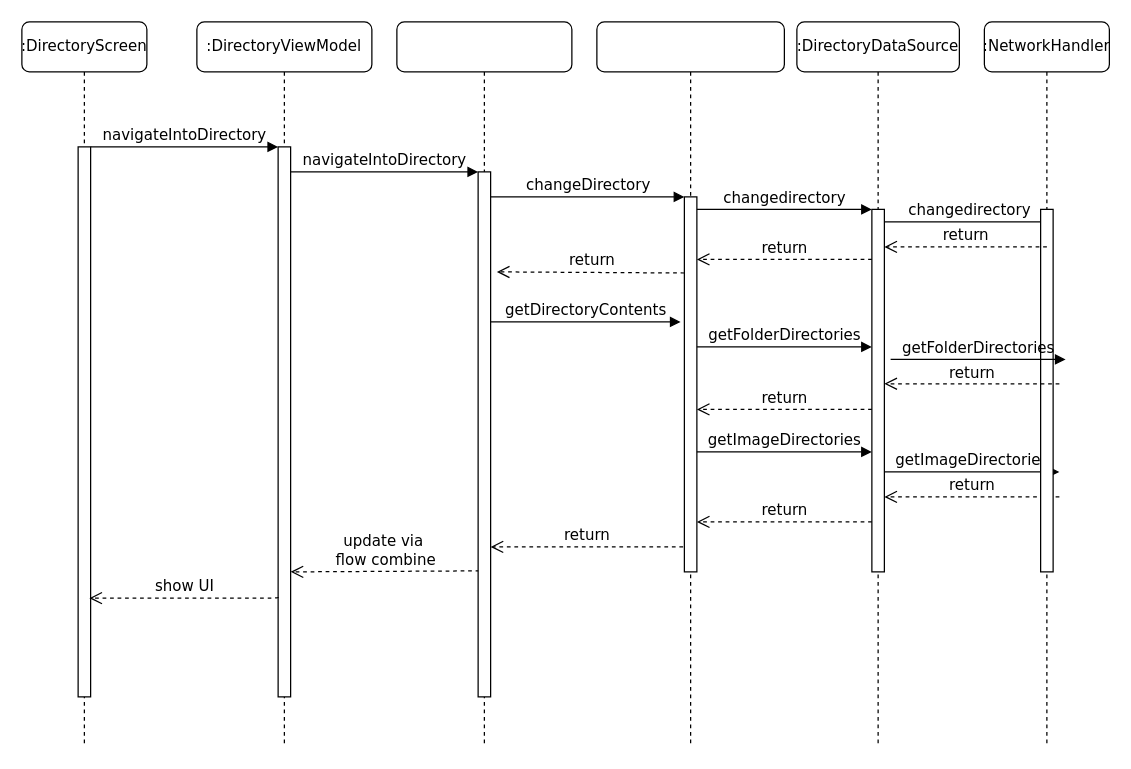
The diagram is 1131 pixels wide and 769 high, and some of its shapes have lost their labels. Here are the shapes that lost their labels. From the top down, the box of each, then its label:
(396, 21, 572, 747): :DirectoryNavigator
(596, 21, 784, 747): :DirectoryRepository
